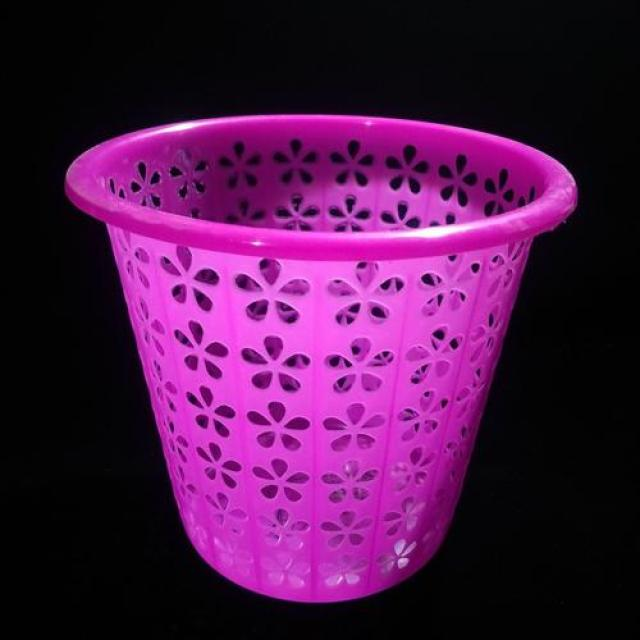dustbin: (63, 106, 582, 604)
